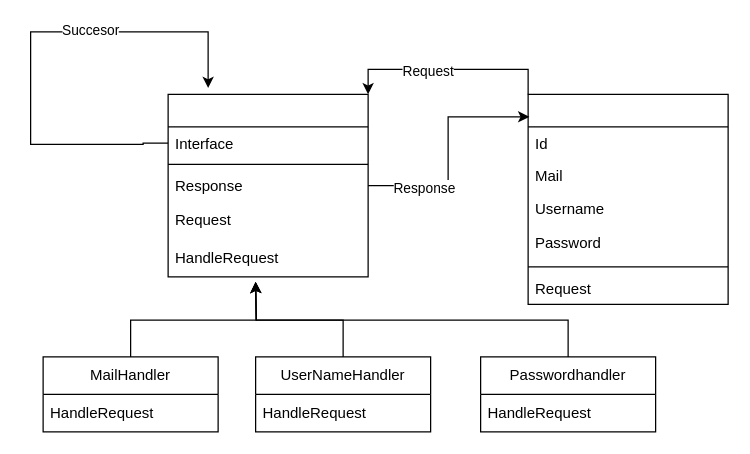
This 750x454 diagram has some shape labels left out. Here are the shapes that lost their labels. From the top down, the box of each, then its label:
(167, 93, 368, 277): Application
(527, 93, 728, 304): Client
